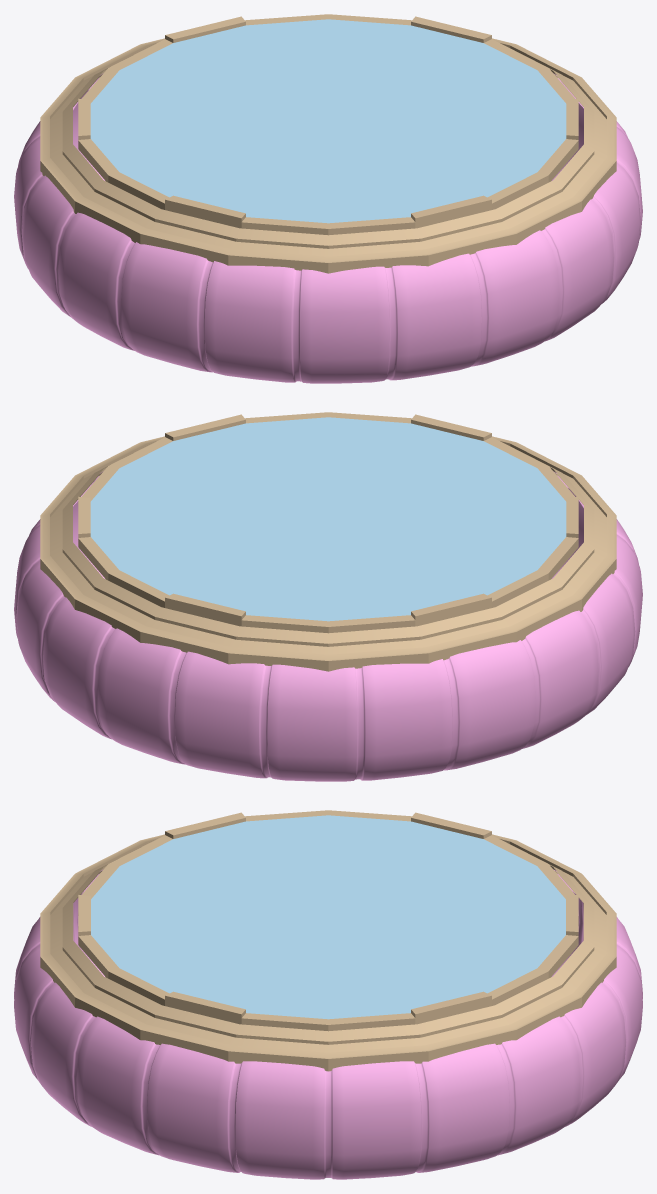
File: arena.fbx
The picture shows the model from 3 angles, top to bottom: view 1: azimuth 30°, elevation 25°; view 2: azimuth 150°, elevation 25°; view 3: azimuth 270°, elevation 25°; orthographic projection.
Parts seen in each view (by area): view 1: polySurface1, pasted__pCylinder2, polySurface2; view 2: polySurface1, pasted__pCylinder2, polySurface2; view 3: polySurface1, pasted__pCylinder2, polySurface2.
Part boxes in pixels (bbox=[...]): polySurface1: bbox=[90, 19, 566, 223]; pasted__pCylinder2: bbox=[14, 73, 642, 383]; polySurface2: bbox=[40, 14, 616, 273]; polySurface1: bbox=[90, 417, 566, 621]; pasted__pCylinder2: bbox=[14, 471, 642, 781]; polySurface2: bbox=[40, 412, 616, 671]; polySurface1: bbox=[91, 815, 565, 1019]; pasted__pCylinder2: bbox=[14, 869, 642, 1179]; polySurface2: bbox=[40, 810, 616, 1071].
Bounding box in the file's own units: 10.27 × 2.74 × 10.27.
